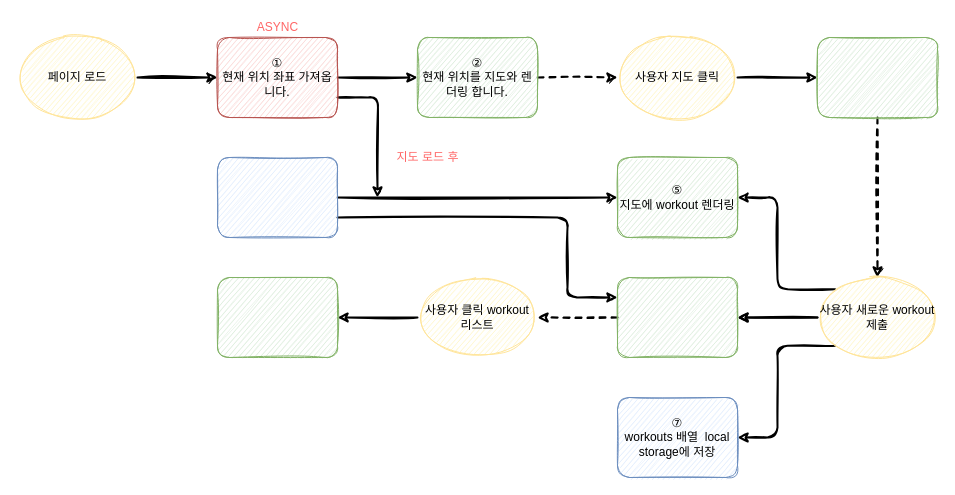
The diagram is 955 pixels wide and 495 high, and some of its shapes have lost their labels. The shapes that lost their labels are listed below. From the top down, each one's box as (x1, y1, x2, y2) in pixels, then its label:
(816, 36, 938, 118): ③④ workout form 렌더링
(216, 156, 338, 238): ⑧ local storage에서 workouts 배열 로드
(216, 276, 338, 358): ⑨ 클릭한 workout 위치로 지도 이동
(616, 276, 738, 358): ⑥ 리스트에 workout 렌더링
